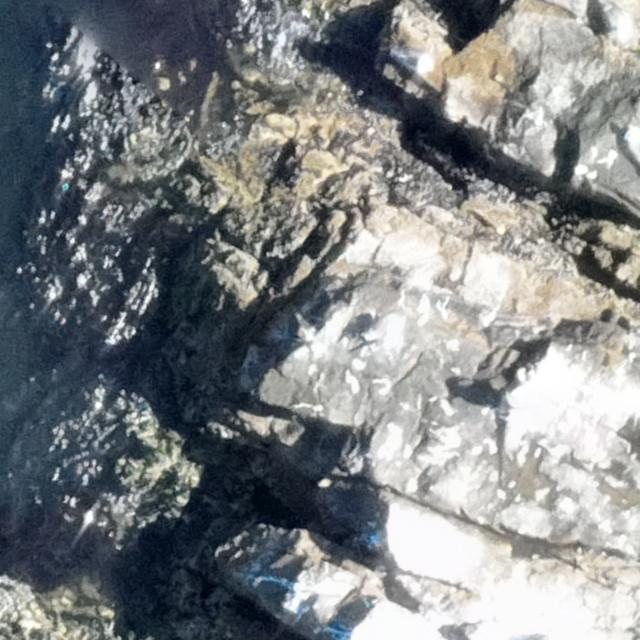umineko: (392, 49, 434, 73)
